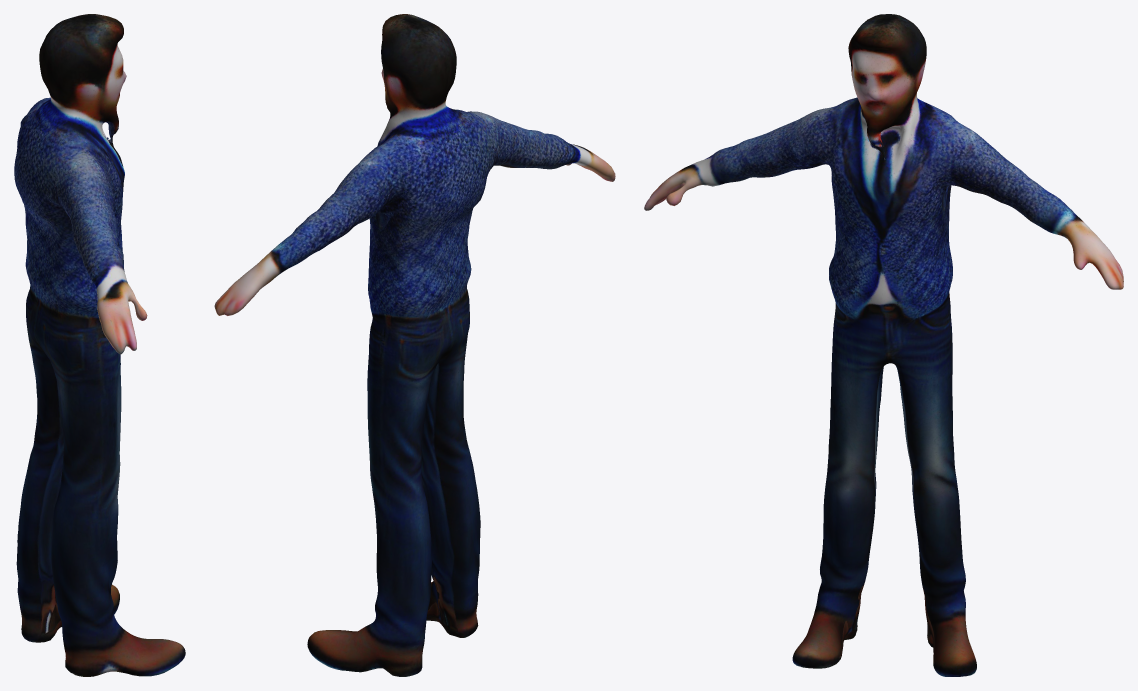
File: professor.fbx
3 renders of one model, left to right at view 1: azimuth 30°, elevation 25°; view 2: azimuth 150°, elevation 25°; view 3: azimuth 270°, elevation 25°, orthographic.
Parts seen in each view (by area): view 1: mesh; view 2: mesh; view 3: mesh.
Boxes of the visible parts, x1,y1,x2,y2 form: mesh: (14,14,185,676); mesh: (214,14,615,676); mesh: (644,14,1123,676).
Size of the model in its own units: 29.43 by 99.98 by 68.31.
